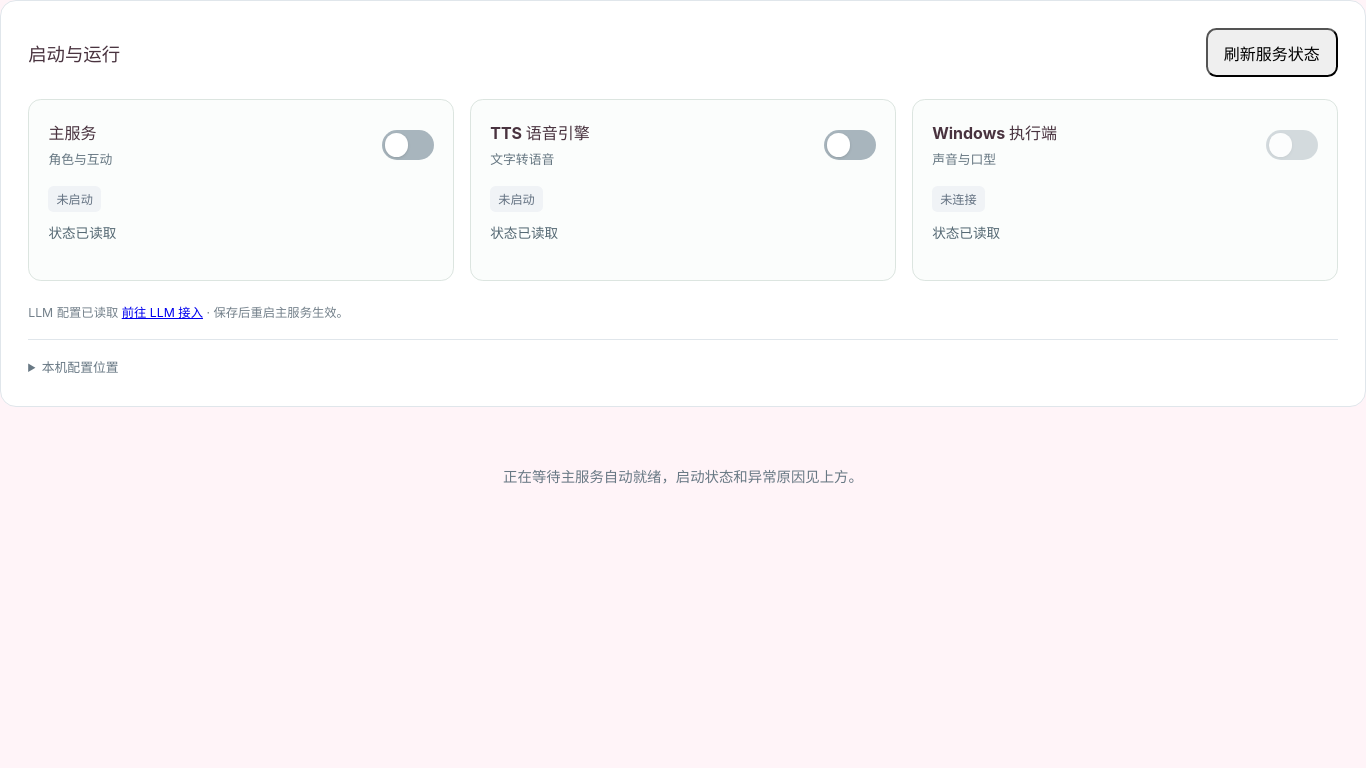
Test: a refused start leaves the switch off and displays the failure
The image size is (1366, 768).
Click the switch named "TTS 语音引擎" at (850, 145), box [824, 130, 876, 160]
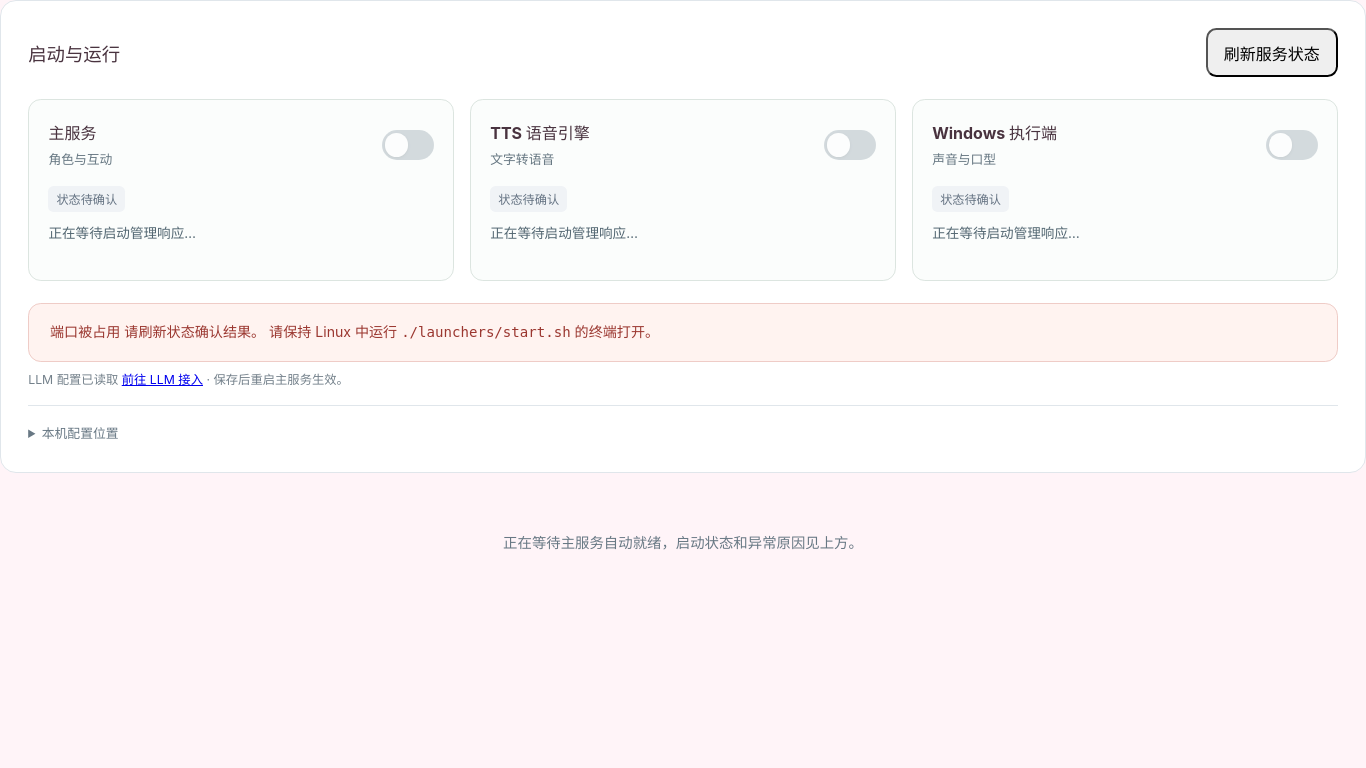
Expected: the message shows "端口被占用", [50, 324, 265, 340]
